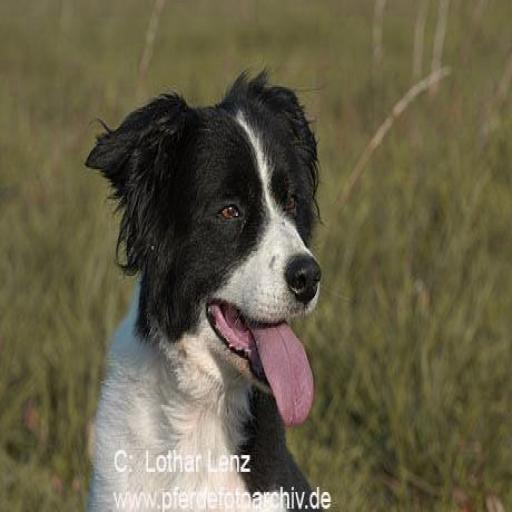dog_face: (86, 96, 355, 408)
